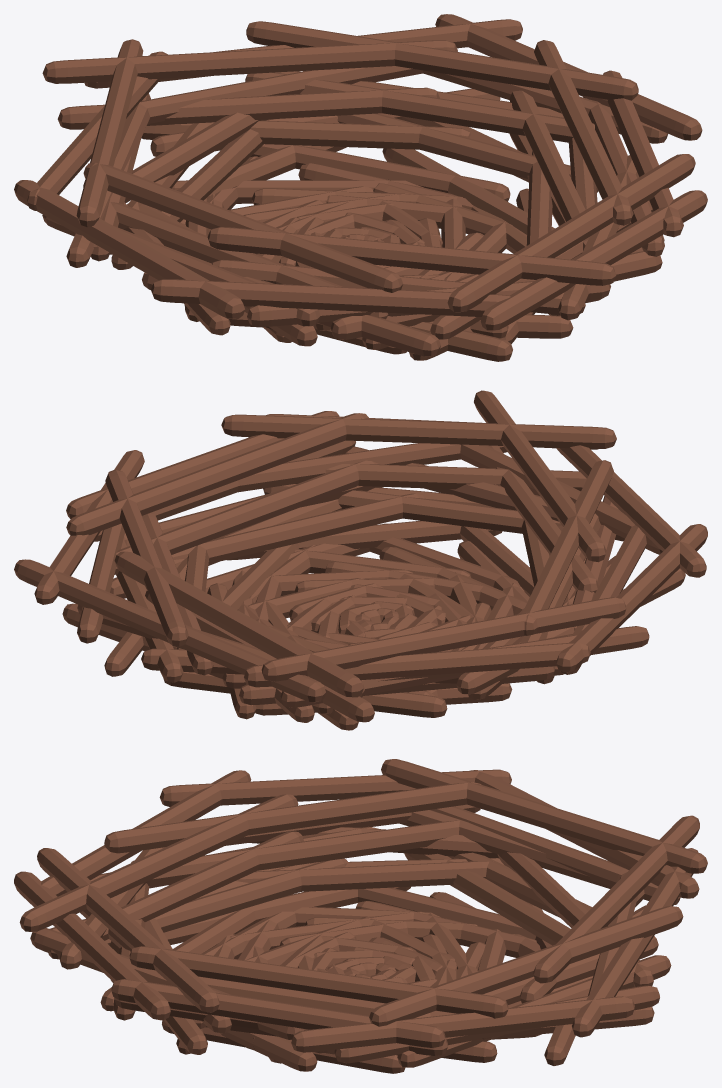
The model's file is Nest.fbx.
3 renders of one model, top to bottom at view 1: azimuth 30°, elevation 25°; view 2: azimuth 150°, elevation 25°; view 3: azimuth 270°, elevation 25°, orthographic. The views are drawn at different scales.
Visible parts, largest first — view 1: Plane; view 2: Plane; view 3: Plane.
Part boxes in pixels (x1,y1,x2,y2): Plane: (14,14,707,361); Plane: (14,390,707,730); Plane: (14,759,707,1073).
Size of the model in its own units: 759 by 140 by 806.
